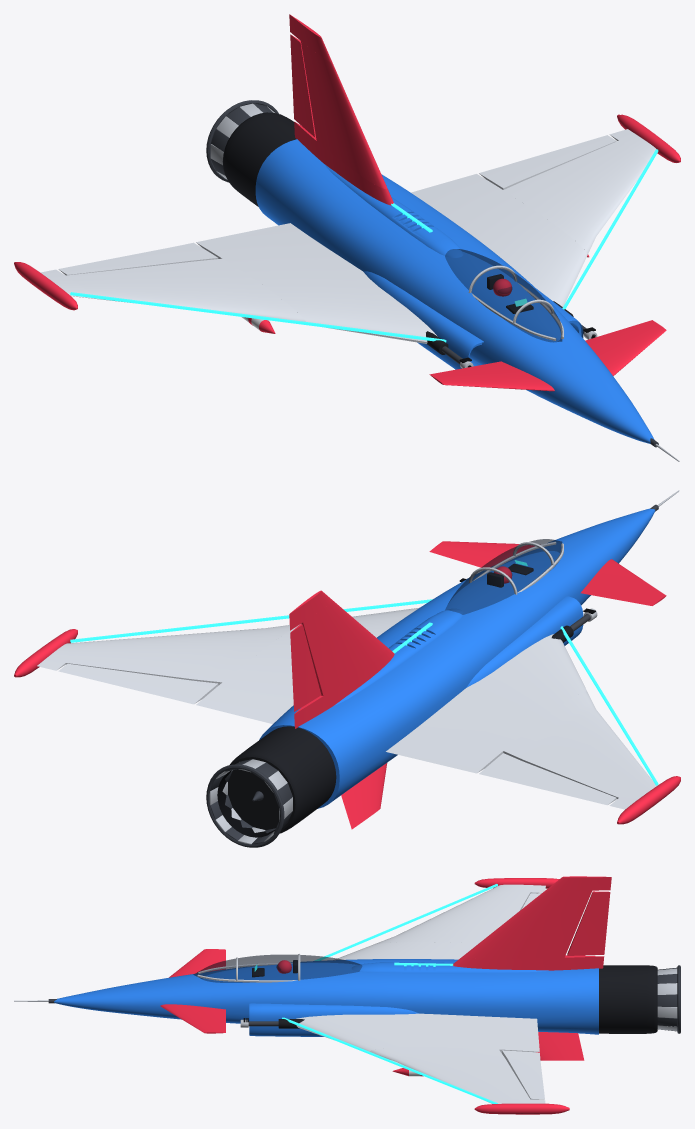
Rendered from kestrel.glb.
3 renders of one model, top to bottom at view 1: azimuth 30°, elevation 25°; view 2: azimuth 150°, elevation 25°; view 3: azimuth 270°, elevation 25°, orthographic. The views are drawn at different scales.
Visible parts, largest first — view 1: SHIP; view 2: SHIP; view 3: SHIP.
Boxes of the visible parts, box(x1,y1,x2,y2) form: SHIP: box(14, 14, 680, 461); SHIP: box(14, 490, 680, 847); SHIP: box(14, 876, 680, 1114).
Bounding box in the file's own units: 14.9 × 5.05 × 18.24.
